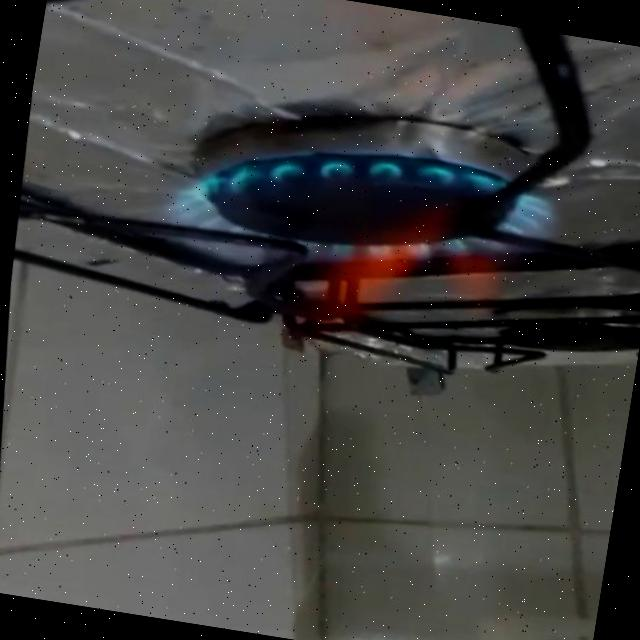fire: (125, 99, 583, 405)
